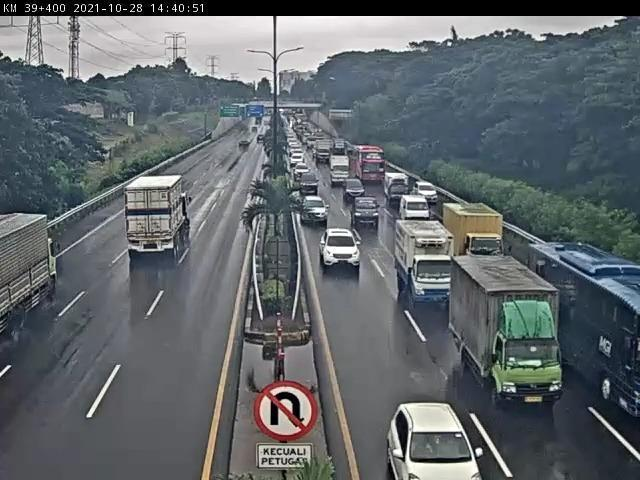bus: (530, 244, 640, 416)
car: (385, 404, 485, 480), (319, 226, 364, 272), (400, 193, 435, 221), (351, 195, 381, 225), (301, 196, 330, 227)
truck: (450, 253, 564, 409), (1, 212, 61, 340), (124, 179, 191, 260), (395, 220, 457, 306), (443, 203, 507, 260)
